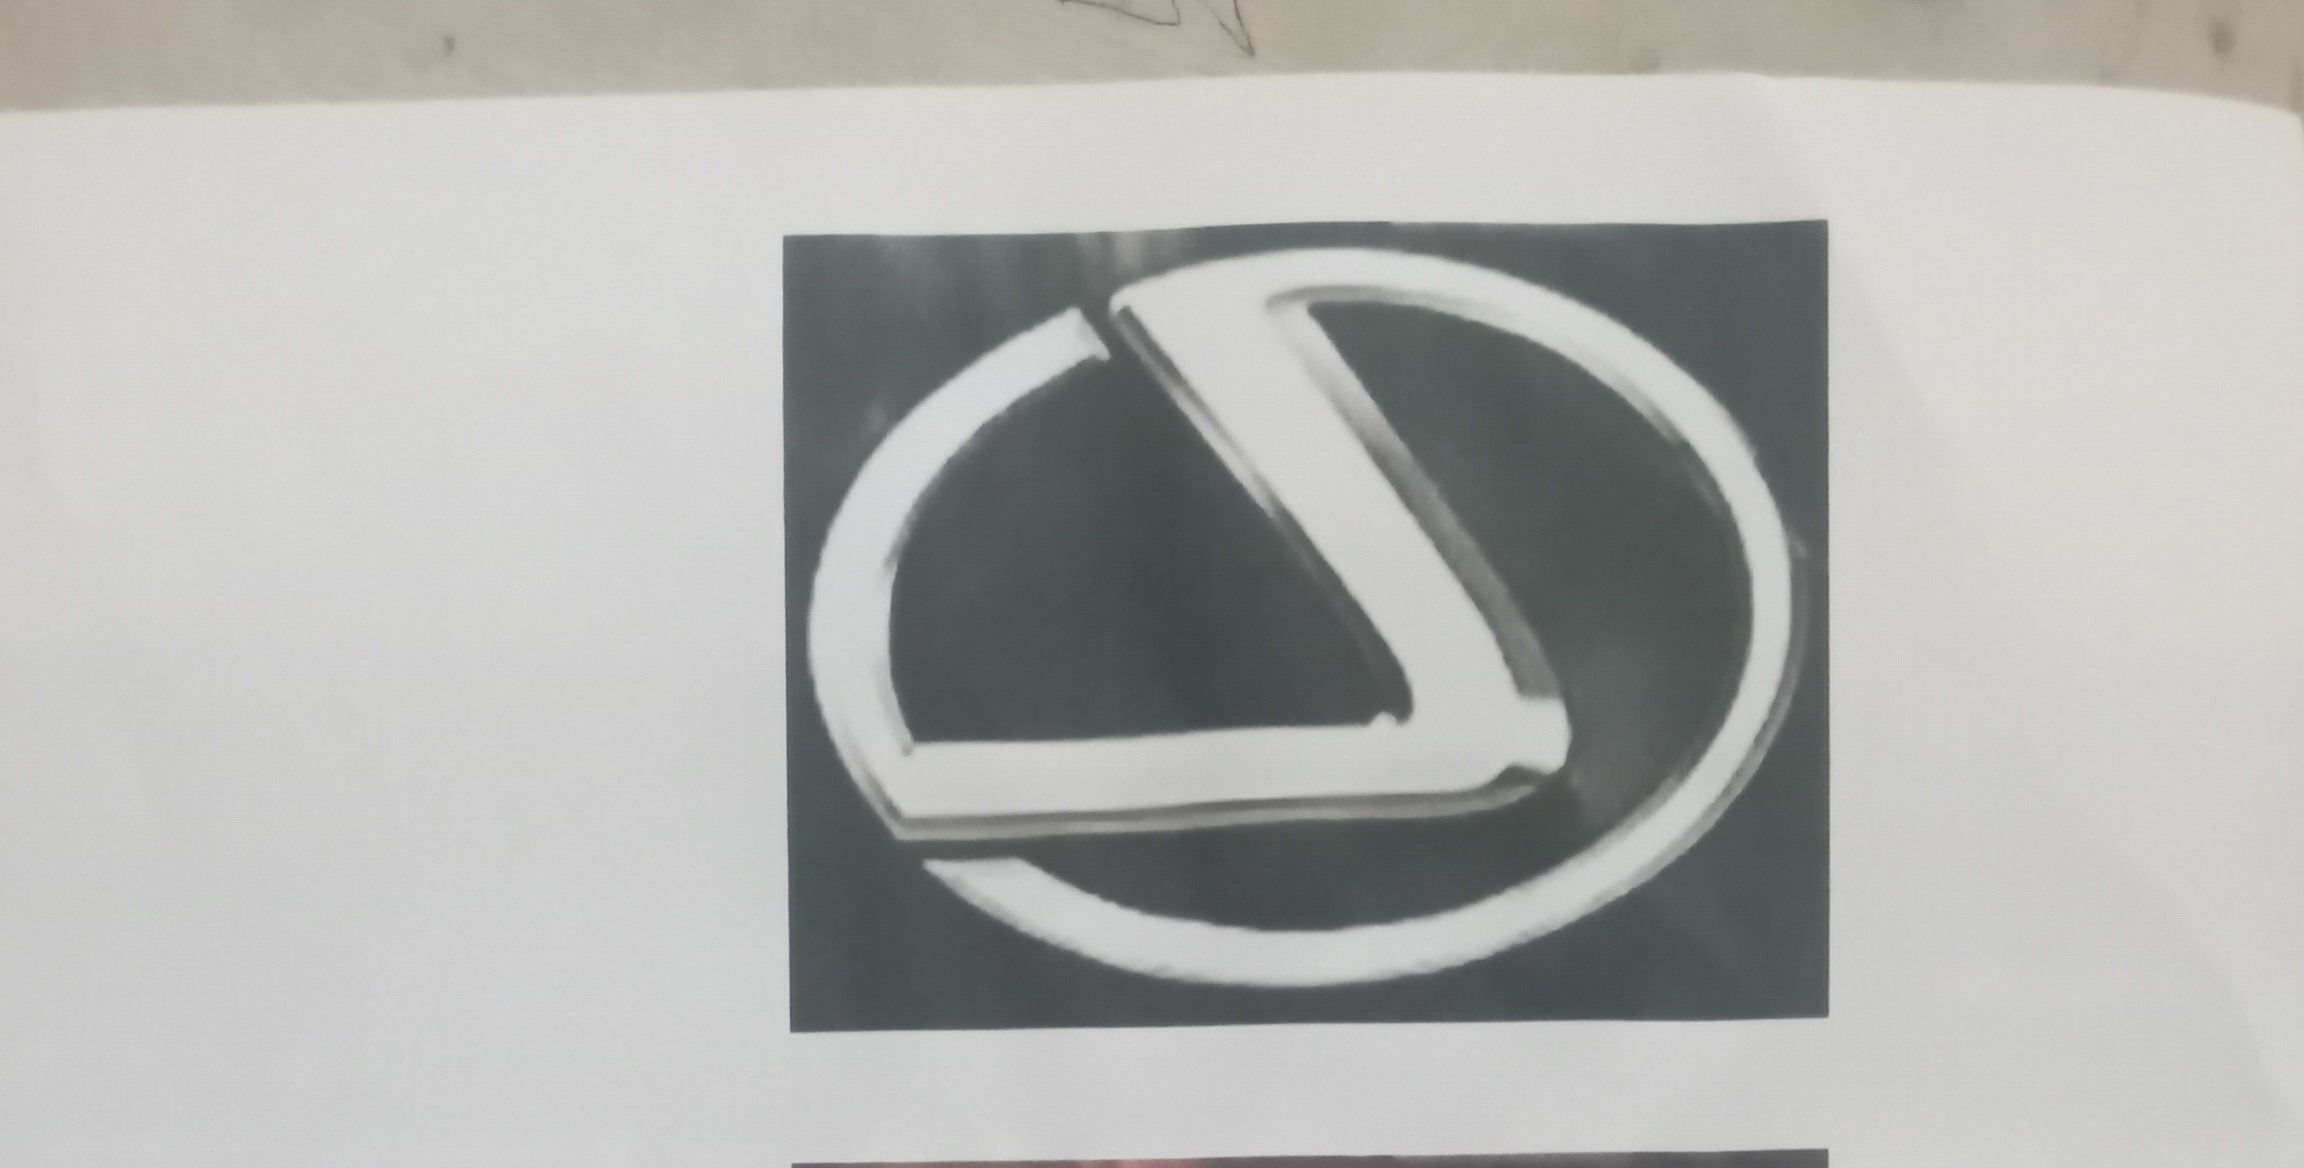Lexus: (795, 237, 1813, 1000)
